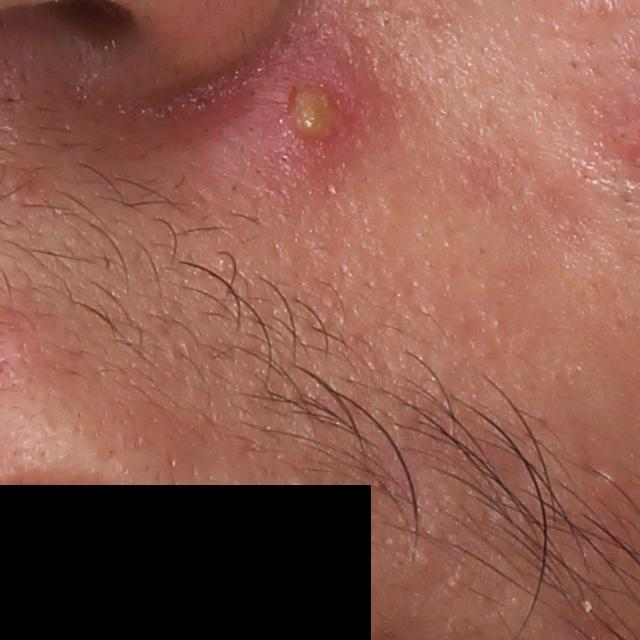pustule: (231, 31, 403, 185)
